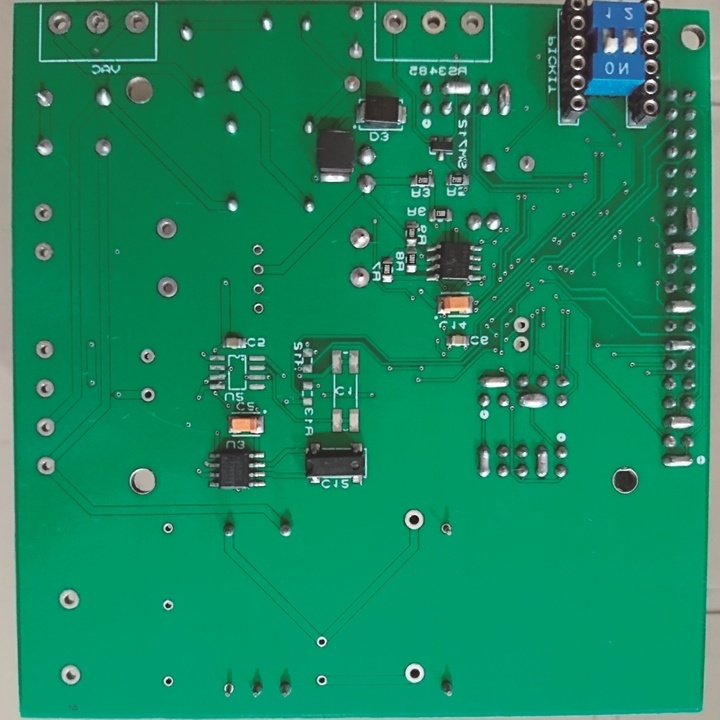F: (122, 8, 152, 38), (380, 7, 410, 36), (44, 9, 73, 38), (418, 7, 447, 36), (458, 8, 485, 38), (56, 585, 83, 613), (153, 274, 180, 300), (84, 9, 110, 36), (347, 223, 372, 250), (347, 263, 372, 289), (33, 454, 57, 479), (403, 660, 426, 686), (516, 150, 539, 175), (33, 376, 56, 401), (154, 218, 179, 241), (59, 663, 82, 687), (33, 415, 57, 438), (32, 338, 56, 361), (32, 200, 55, 224), (403, 508, 425, 533), (34, 137, 56, 162), (33, 239, 55, 263), (34, 89, 56, 110), (345, 39, 366, 60), (341, 72, 361, 94), (93, 138, 114, 158), (511, 315, 531, 335), (511, 335, 530, 356), (347, 4, 367, 23), (136, 347, 157, 365), (437, 520, 455, 540), (221, 678, 236, 700), (138, 386, 156, 403), (251, 281, 266, 297), (161, 520, 175, 536), (251, 301, 267, 315), (161, 675, 176, 689), (314, 635, 328, 649), (161, 598, 175, 612), (251, 262, 265, 276), (315, 673, 328, 688), (251, 243, 264, 256)
P: (660, 450, 695, 472), (532, 440, 550, 482), (474, 372, 511, 392), (514, 391, 552, 410), (660, 412, 696, 432), (664, 295, 698, 316), (437, 78, 475, 96), (475, 440, 492, 479), (496, 78, 512, 119), (663, 336, 699, 354), (664, 239, 698, 258), (684, 202, 701, 238)
